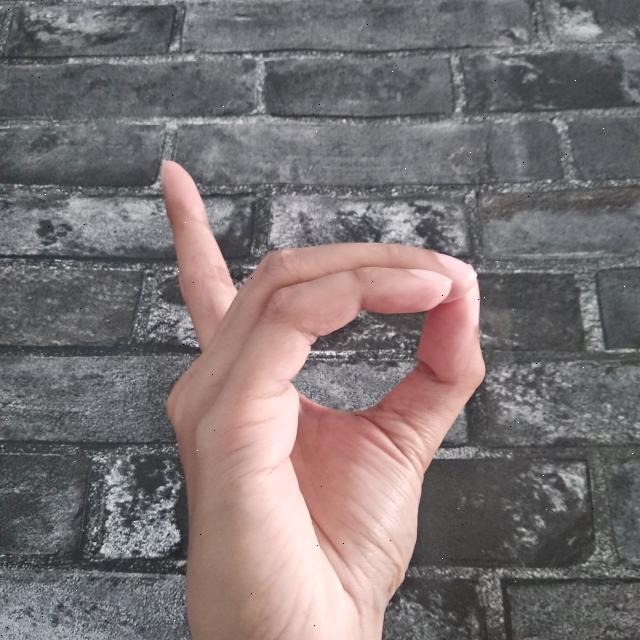D: (148, 149, 499, 640)
